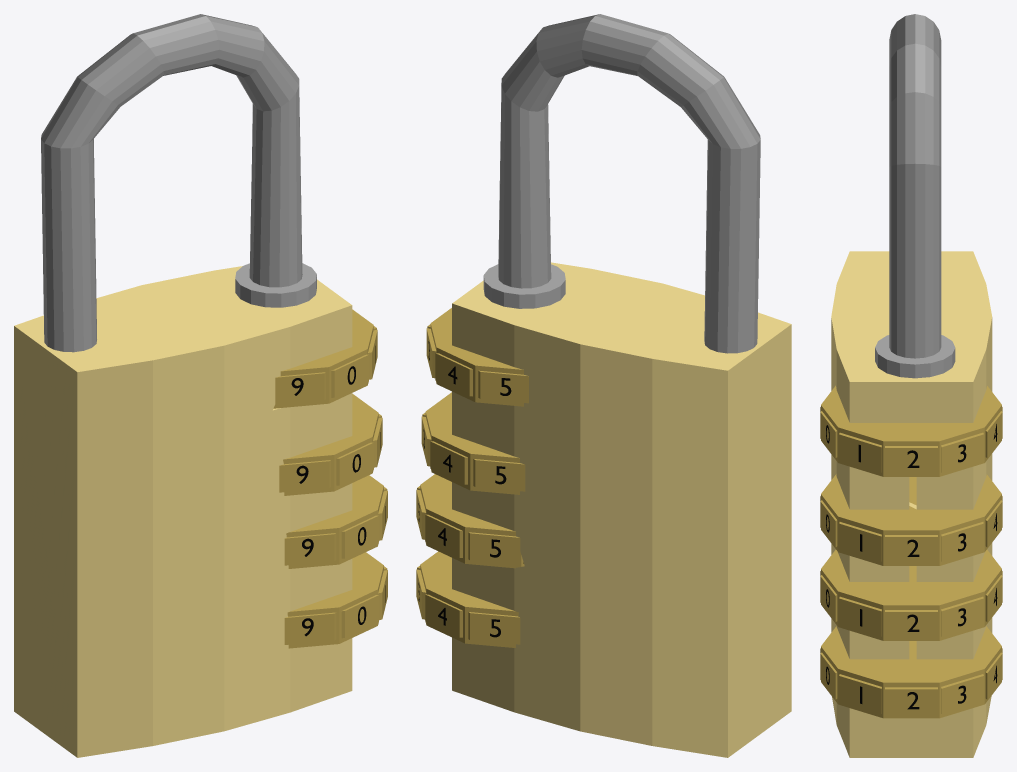
The model's file is cadeado.glb.
3 renders of one model, left to right at view 1: azimuth 30°, elevation 25°; view 2: azimuth 150°, elevation 25°; view 3: azimuth 270°, elevation 25°, orthographic. The views are drawn at different scales.
Size of the model in its own units: 1.01 by 2 by 0.4998.
